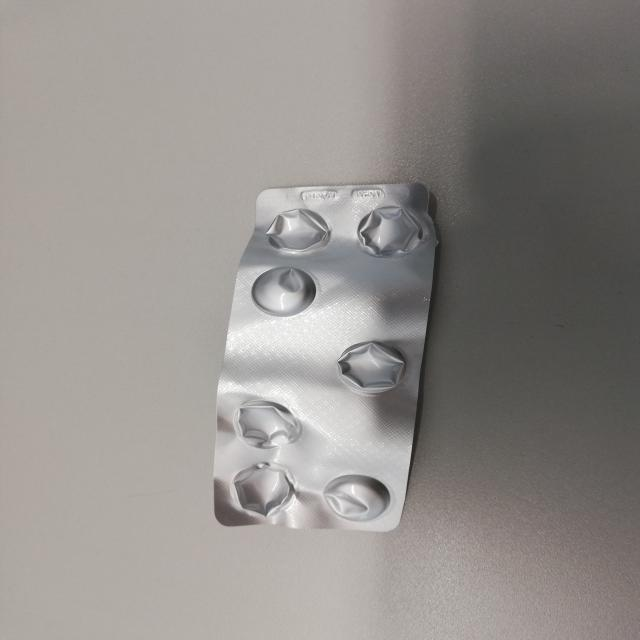Empty: (334, 339, 406, 396), (227, 464, 301, 518), (355, 206, 426, 259), (230, 400, 302, 450), (265, 207, 332, 255)
Pill: (249, 265, 318, 318), (320, 474, 392, 523)
